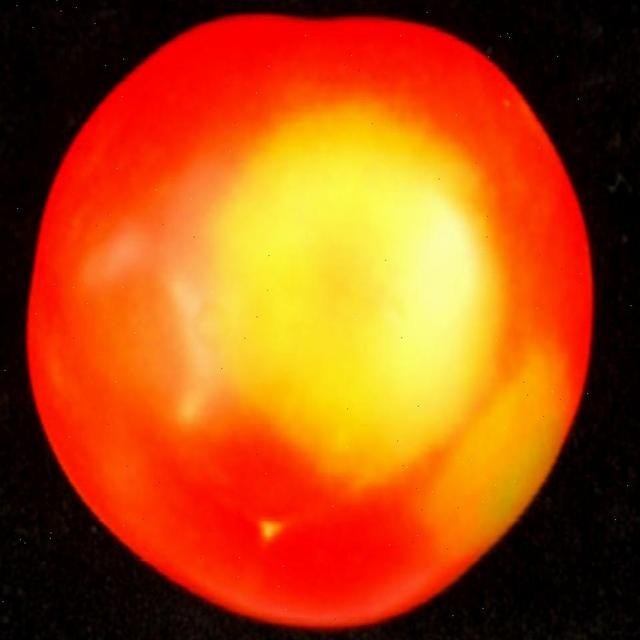Spotted wilt Virus Fruit: (81, 0, 170, 42)
